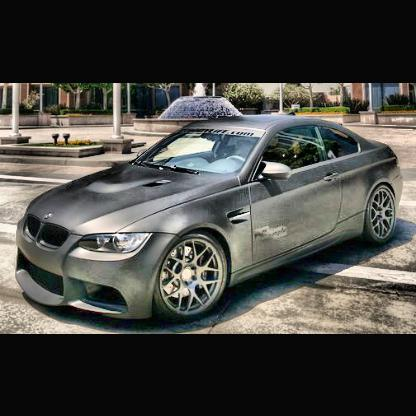BMW M3 Coupe 2012: (18, 119, 405, 326)
